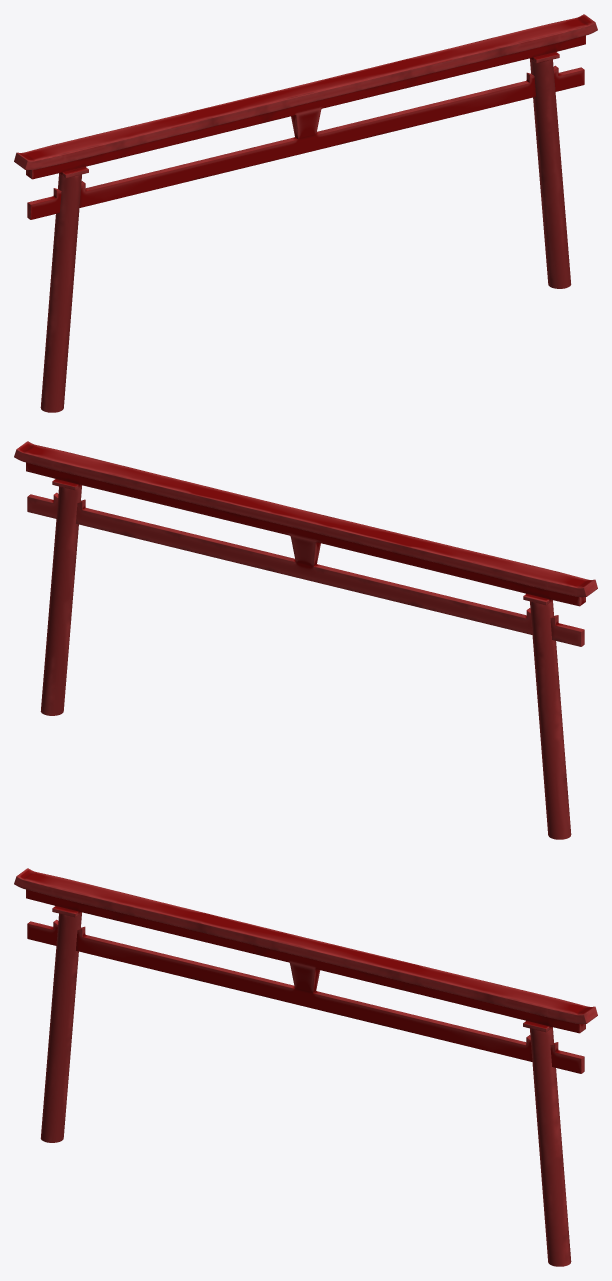
Rendered from arco_liberdade.fbx.
3 renders of one model, top to bottom at view 1: azimuth 30°, elevation 25°; view 2: azimuth 150°, elevation 25°; view 3: azimuth 330°, elevation 25°, orthographic.
Parts seen in each view (by area): view 1: Arco_Liberdade; view 2: Arco_Liberdade; view 3: Arco_Liberdade.
Boxes of the visible parts, x1=… form: Arco_Liberdade: x1=14, y1=14, x2=597, y2=412; Arco_Liberdade: x1=14, y1=441, x2=597, y2=839; Arco_Liberdade: x1=14, y1=868, x2=597, y2=1266.
Bounding box in the file's own units: 1067 × 460 × 43.5.
